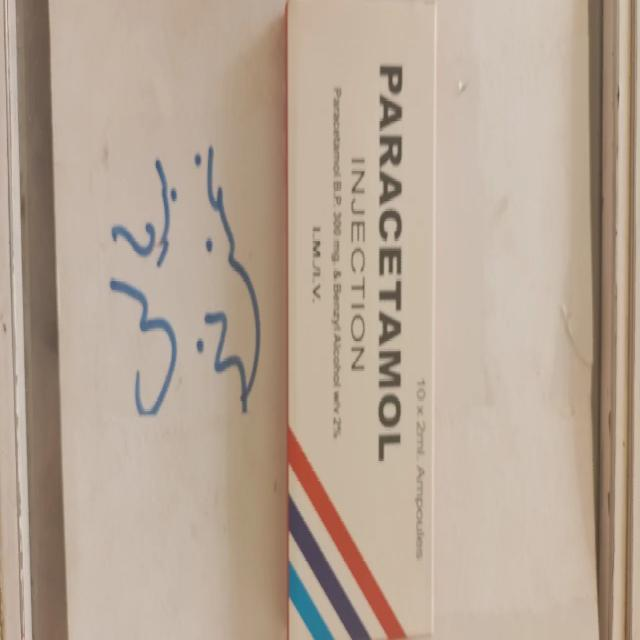drug-name: (372, 55, 408, 465)
